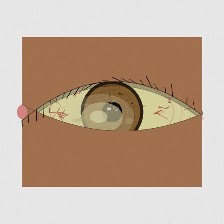corneal_ulcer: (68, 90, 136, 144)
